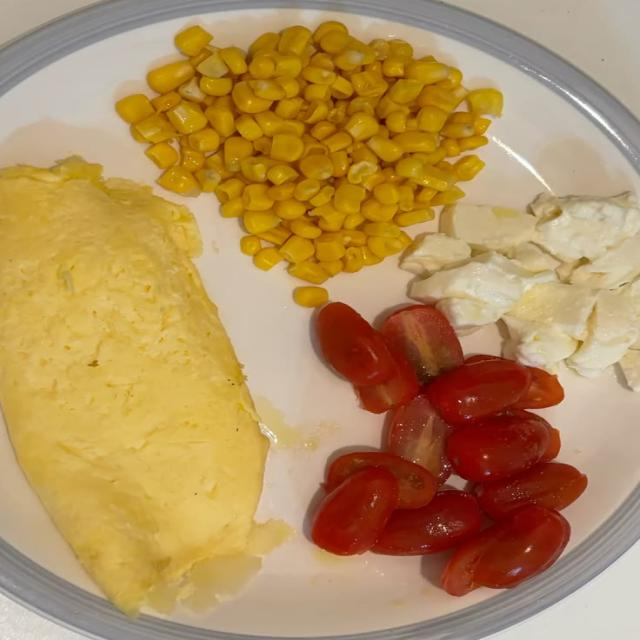omelette: (0, 159, 267, 614)
